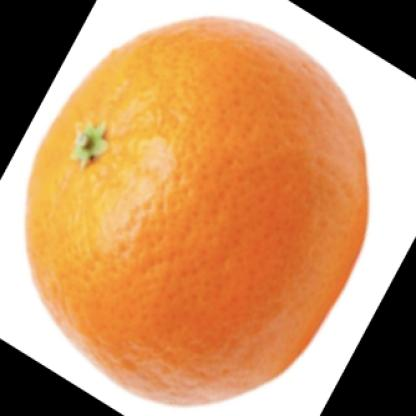fresh: (30, 18, 369, 404)
